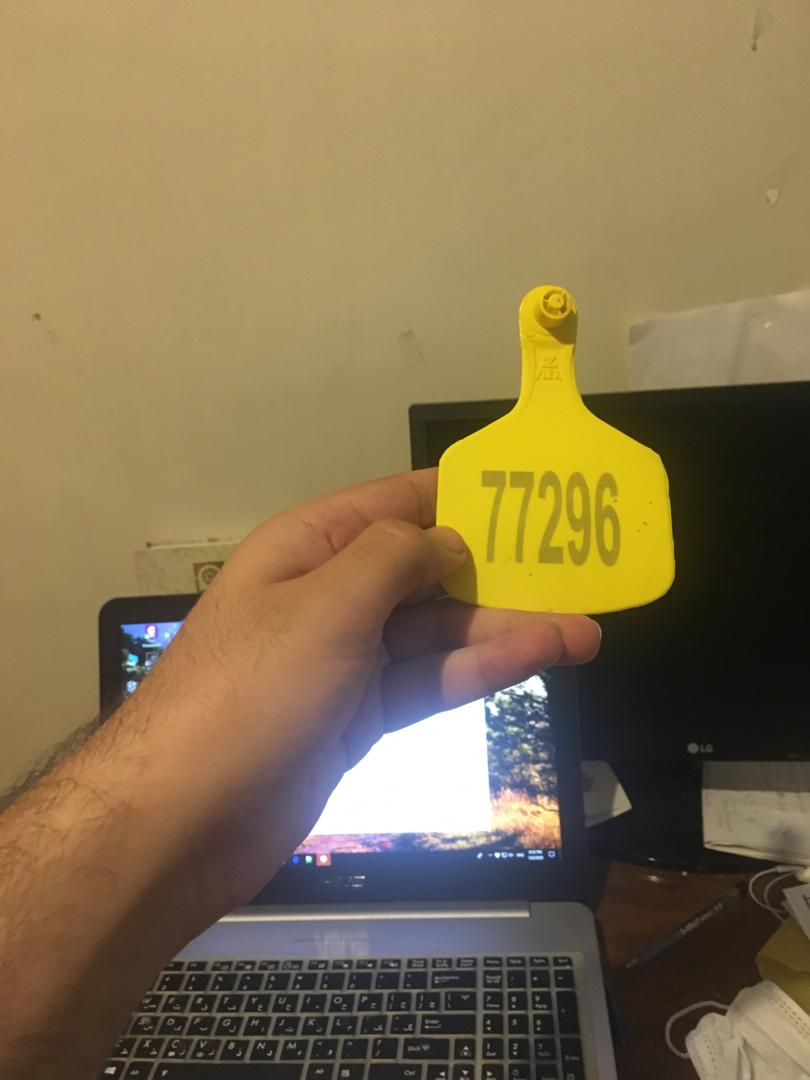digit: (476, 466, 625, 569)
